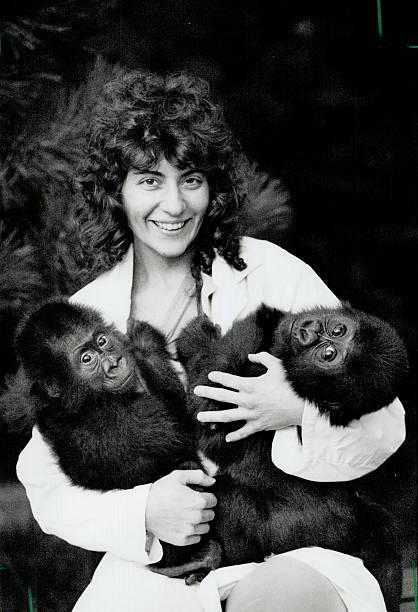goriile_montagne: (15, 304, 202, 480), (273, 290, 411, 415)
